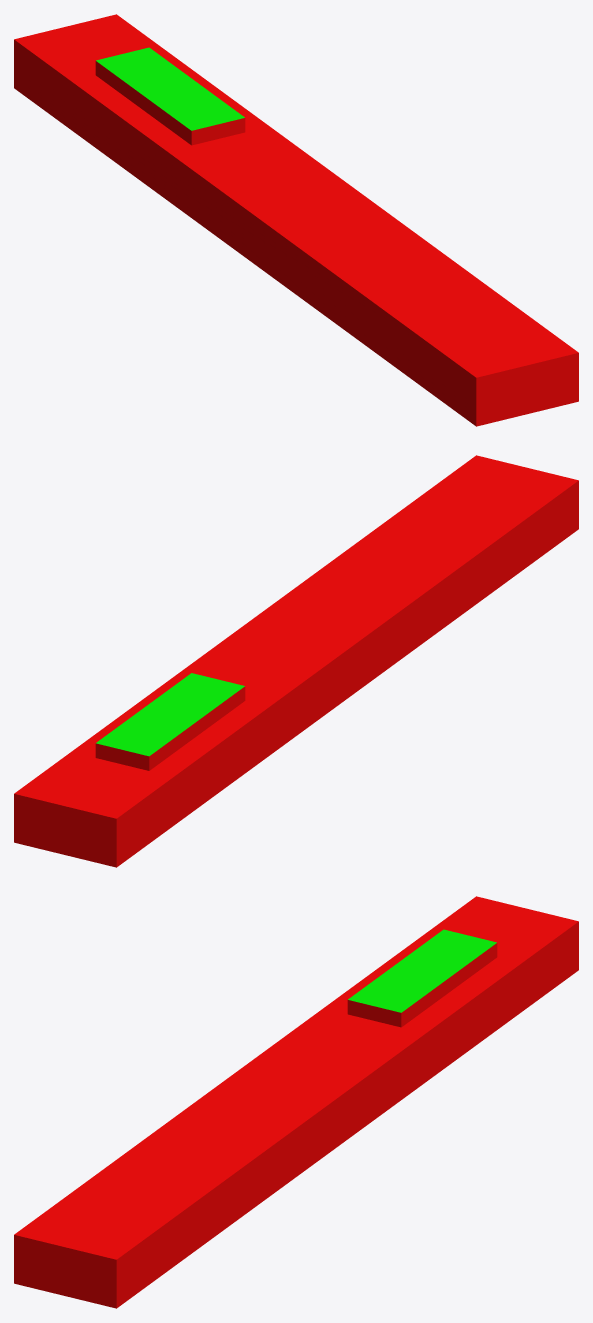
Rendered from labeled.obj.
The picture shows the model from 3 angles, top to bottom: view 1: azimuth 30°, elevation 25°; view 2: azimuth 150°, elevation 25°; view 3: azimuth 330°, elevation 25°; orthographic projection.
Bounding box in the file's own units: 0.0188 × 0.0111 × 0.1467.
